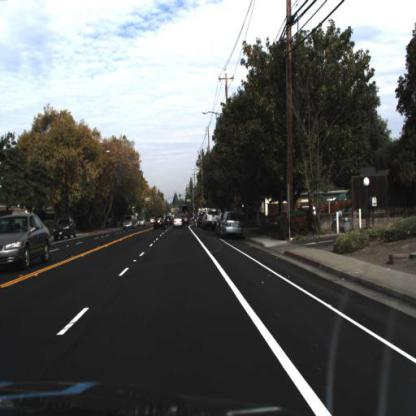car: (1, 214, 51, 276), (51, 212, 78, 246), (221, 213, 246, 242), (203, 207, 222, 231), (122, 214, 137, 235), (152, 213, 166, 234), (136, 217, 146, 232), (174, 213, 184, 228)
